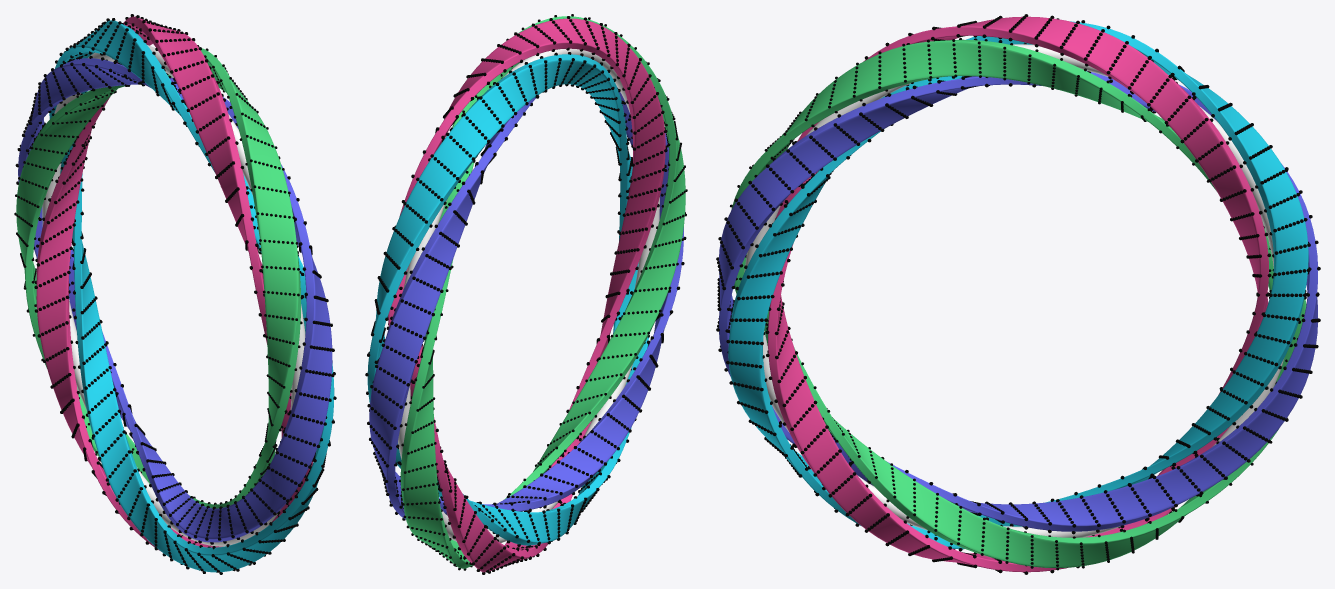
Rendered from Ring.glb.
The picture shows the model from 3 angles, left to right: view 1: azimuth 30°, elevation 25°; view 2: azimuth 150°, elevation 25°; view 3: azimuth 270°, elevation 25°; orthographic projection. The views are drawn at different scales.
Visible parts, largest first — view 1: tape2, tape1, tape4, tape3, Sphere1, Torus; view 2: tape1, tape4, tape3, tape2, Sphere1, Torus; view 3: tape2, tape3, tape4, tape1, Sphere1, Torus.
Part boxes in pixels (x1,y1,x2,y2): tape2: [16, 48, 300, 508]; tape1: [18, 58, 332, 542]; tape4: [49, 20, 334, 572]; tape3: [36, 16, 312, 551]; Sphere1: [14, 14, 336, 574]; Torus: [42, 45, 305, 546]; tape1: [369, 87, 683, 519]; tape4: [367, 54, 649, 545]; tape3: [388, 18, 665, 572]; tape2: [400, 16, 685, 568]; Sphere1: [365, 14, 687, 574]; Torus: [398, 48, 659, 542]; tape2: [731, 39, 1306, 567]; tape3: [768, 16, 1268, 572]; tape4: [728, 21, 1308, 549]; tape1: [718, 71, 1318, 531]; Sphere1: [716, 14, 1320, 574]; Torus: [744, 44, 1284, 537].
Bounding box in the file's own units: 0.578 × 4.49 × 4.49.
